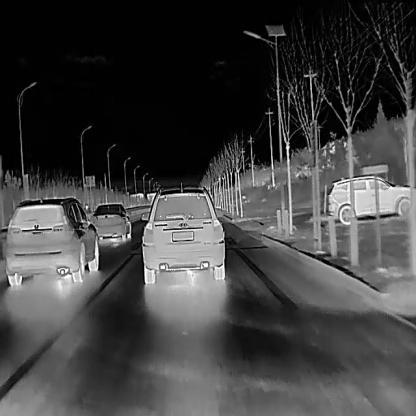car: (3, 194, 99, 286), (140, 185, 225, 285), (327, 171, 416, 226), (89, 202, 131, 242)
